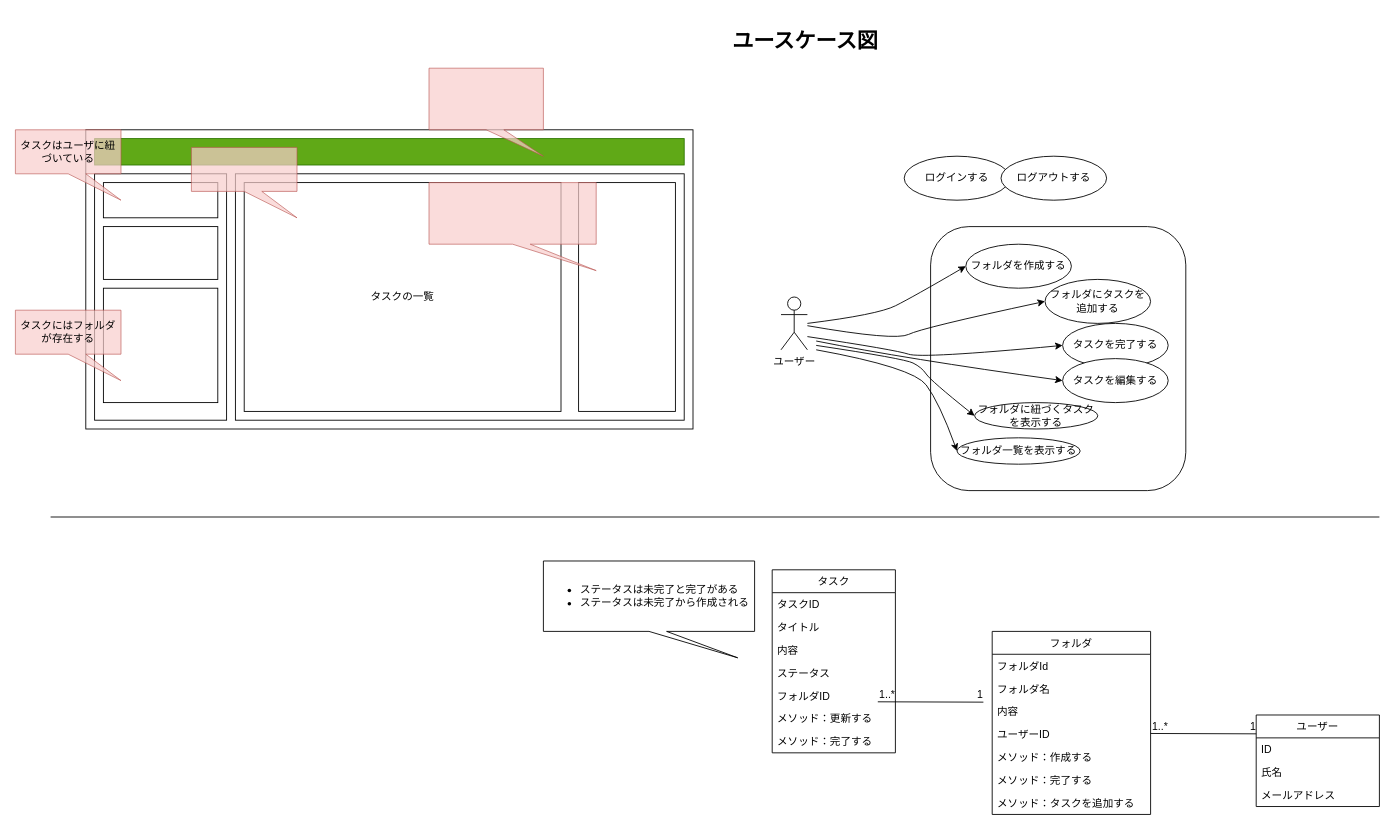
The diagram is 1396 pixels wide and 832 high, and some of its shapes have lost their labels. The centre of each missing label's shape, as x and y in pixels:
タスクID（不変） タスクタイトル タスクの内容 ステータス（未完了と完了）: (x=512, y=226)
タスクの詳細: (x=626, y=296)
タスクはフォルダに紐づくものすべてを表示する: (x=244, y=182)
ヘッダー: (x=389, y=151)
ログアウト・ログインボタン、ヘルプボタンとかあってもいいかも: (x=485, y=111)
ログインユーザ情報: (x=160, y=200)
個人のフォルダ: (x=160, y=345)
基本メニュー: (x=160, y=252)
